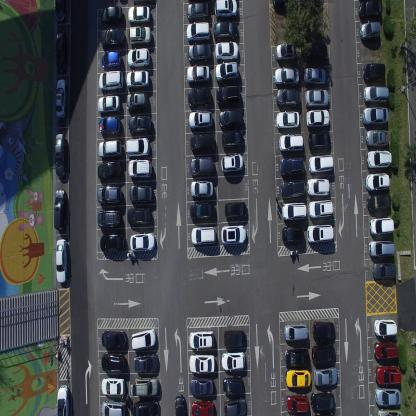car: (131, 327, 156, 351), (306, 223, 333, 245), (133, 352, 159, 374), (98, 70, 124, 92), (374, 386, 401, 407), (375, 364, 402, 385), (56, 237, 68, 284), (285, 391, 309, 414), (54, 132, 66, 178), (190, 132, 215, 154), (274, 66, 299, 88), (100, 27, 125, 49), (130, 231, 156, 252), (279, 157, 305, 178), (100, 351, 126, 372), (366, 148, 392, 169), (362, 105, 388, 126), (220, 224, 246, 245), (284, 369, 312, 388), (188, 354, 216, 373), (312, 342, 335, 365), (190, 156, 214, 178), (280, 178, 304, 200), (189, 110, 213, 132), (126, 136, 150, 158), (99, 138, 123, 160), (98, 160, 122, 182), (362, 61, 386, 83), (186, 21, 210, 43), (215, 61, 239, 83), (216, 83, 240, 105), (187, 86, 211, 108), (191, 224, 215, 246), (54, 188, 66, 232), (128, 25, 152, 47), (307, 200, 332, 221), (102, 328, 127, 349), (368, 216, 393, 237), (365, 171, 390, 192), (278, 132, 303, 153), (212, 19, 237, 40), (188, 329, 214, 349), (374, 340, 400, 360), (363, 84, 389, 104), (274, 41, 296, 64), (191, 200, 215, 221), (314, 366, 338, 387), (128, 158, 152, 179), (134, 375, 158, 396), (188, 42, 212, 63), (55, 77, 67, 119), (55, 30, 67, 72), (221, 350, 246, 370), (284, 346, 309, 366), (310, 390, 335, 410), (366, 192, 391, 212), (214, 41, 239, 61), (219, 108, 244, 128), (368, 240, 394, 259), (213, 0, 239, 19), (133, 398, 160, 416), (359, 21, 381, 43), (276, 109, 299, 130), (129, 183, 153, 203), (98, 186, 122, 206), (128, 114, 152, 134), (101, 376, 125, 396), (359, 0, 383, 20), (281, 202, 306, 221), (101, 233, 126, 252), (189, 376, 214, 395), (127, 207, 152, 226), (276, 88, 301, 107), (308, 155, 334, 173), (308, 130, 330, 151), (99, 209, 122, 229), (221, 130, 244, 150), (98, 116, 121, 136), (186, 64, 209, 84), (221, 152, 244, 172), (127, 47, 150, 67), (126, 69, 149, 89), (97, 94, 120, 114), (374, 318, 398, 337), (306, 109, 330, 128), (186, 2, 210, 21), (305, 42, 327, 62), (304, 65, 326, 85), (126, 91, 148, 111), (281, 225, 304, 244), (312, 321, 335, 340), (224, 201, 247, 220), (190, 180, 214, 198), (306, 178, 330, 196), (284, 322, 308, 340), (372, 262, 396, 280), (365, 129, 389, 147), (305, 88, 329, 106), (100, 6, 122, 25), (128, 5, 150, 24), (56, 383, 69, 415), (223, 329, 246, 347), (224, 397, 247, 415), (101, 50, 121, 70), (190, 400, 214, 416), (222, 376, 243, 394), (101, 400, 126, 415), (54, 0, 66, 23), (174, 393, 186, 415), (272, 0, 294, 10), (377, 408, 403, 415)
